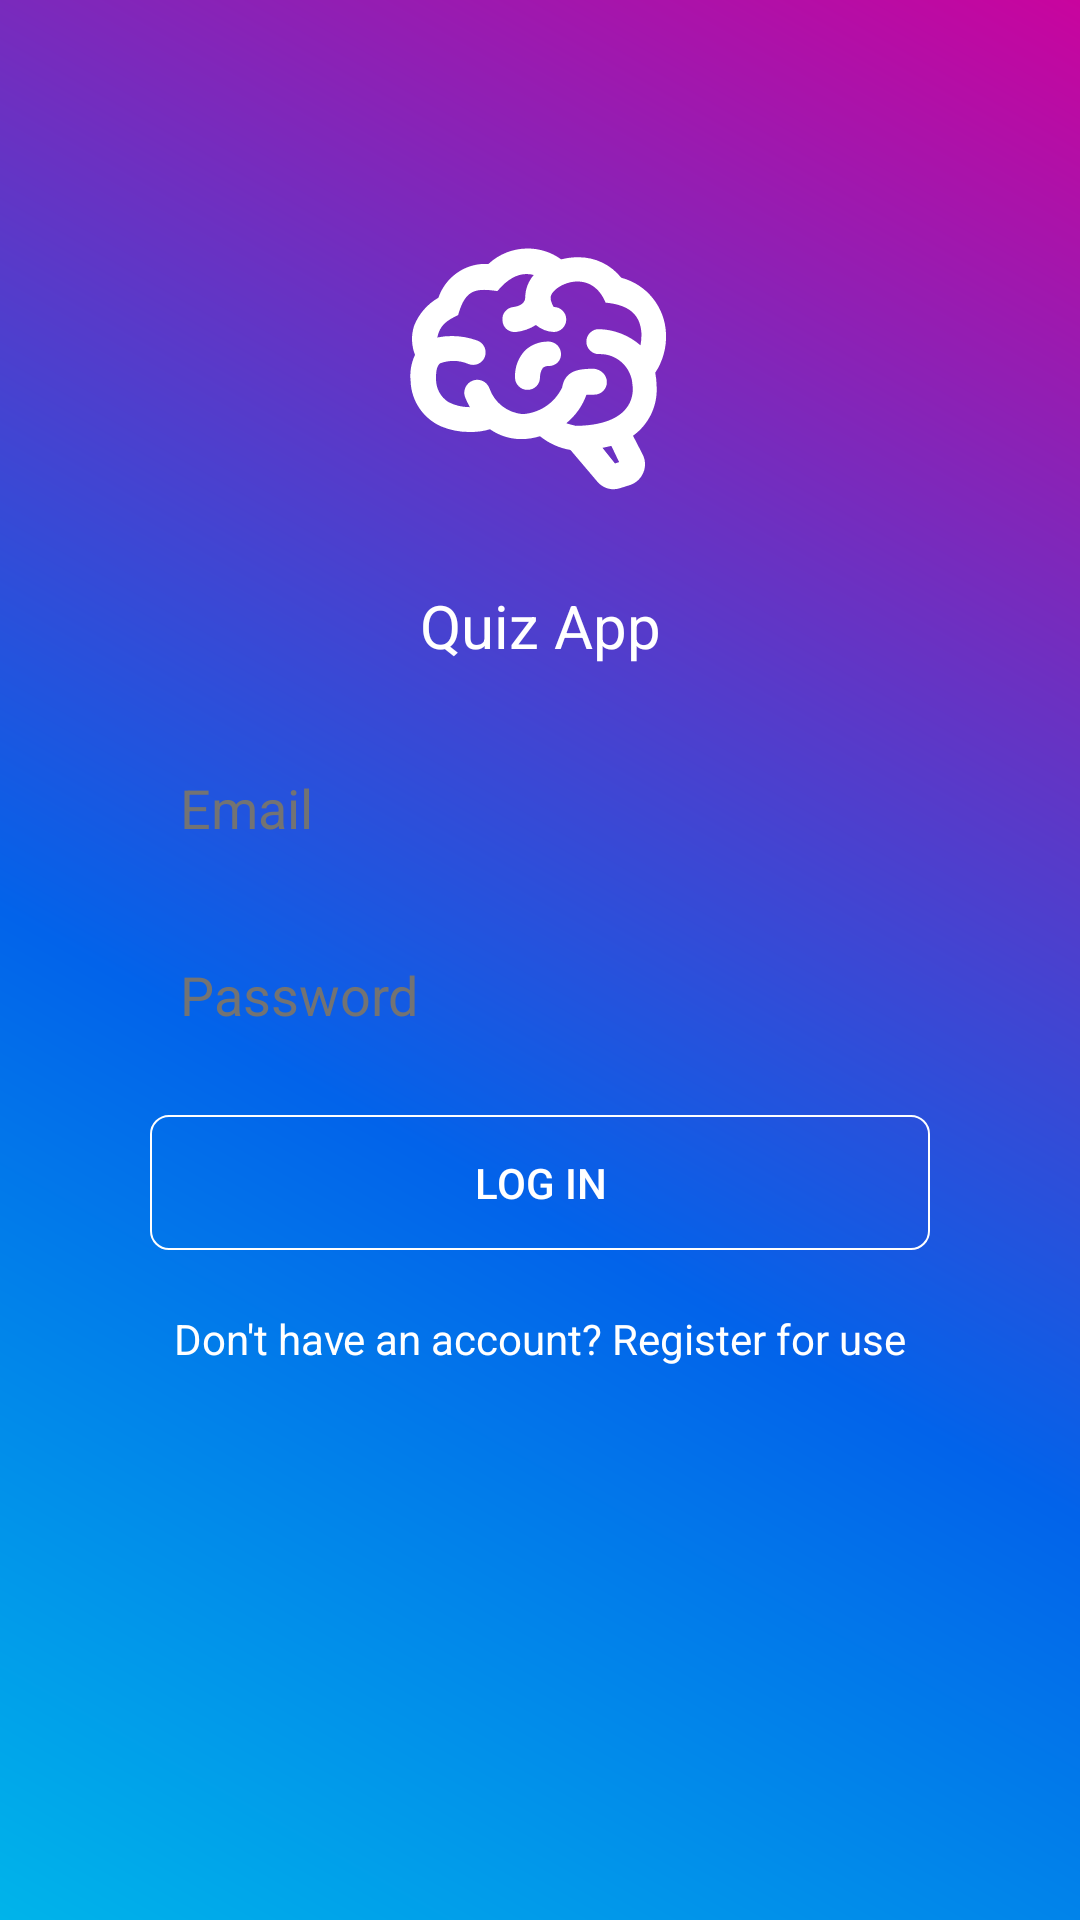

Named icons in this screenshot (1080px×1920px) and their bounding boxes, (x1, y1, x2, y2):
brain: (410, 225, 690, 490)
